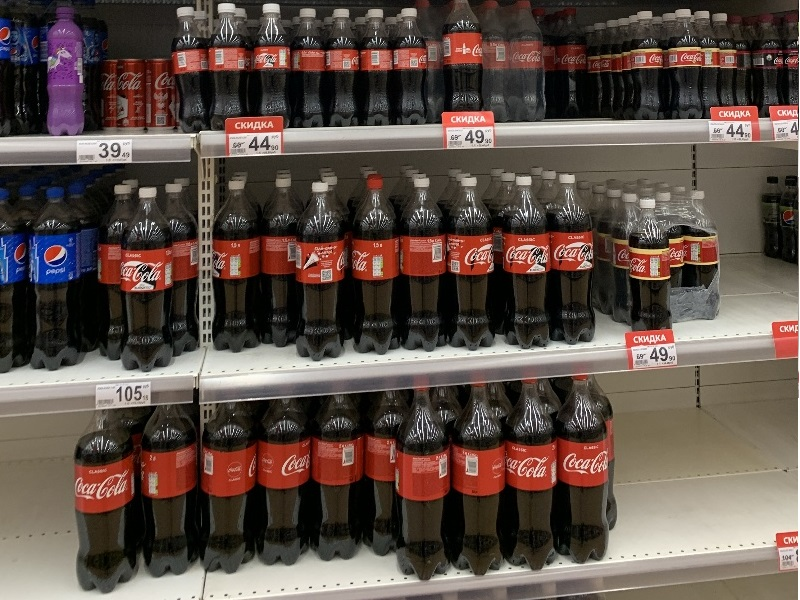lemonade: (62, 405, 145, 597), (503, 370, 569, 577), (21, 187, 89, 380), (116, 186, 185, 376), (192, 396, 262, 581), (391, 380, 455, 582), (553, 369, 617, 571), (133, 395, 204, 576), (288, 178, 353, 367), (203, 176, 271, 356), (448, 376, 508, 580), (537, 170, 600, 348), (255, 387, 312, 574), (499, 171, 555, 355), (308, 390, 366, 563), (395, 177, 452, 353), (351, 174, 404, 357), (444, 177, 498, 353), (623, 195, 677, 337), (203, 1, 252, 135), (168, 3, 216, 137), (319, 7, 366, 129), (660, 8, 709, 124), (626, 9, 672, 126), (287, 6, 330, 129), (389, 8, 432, 128), (253, 1, 292, 121), (359, 8, 397, 126)
